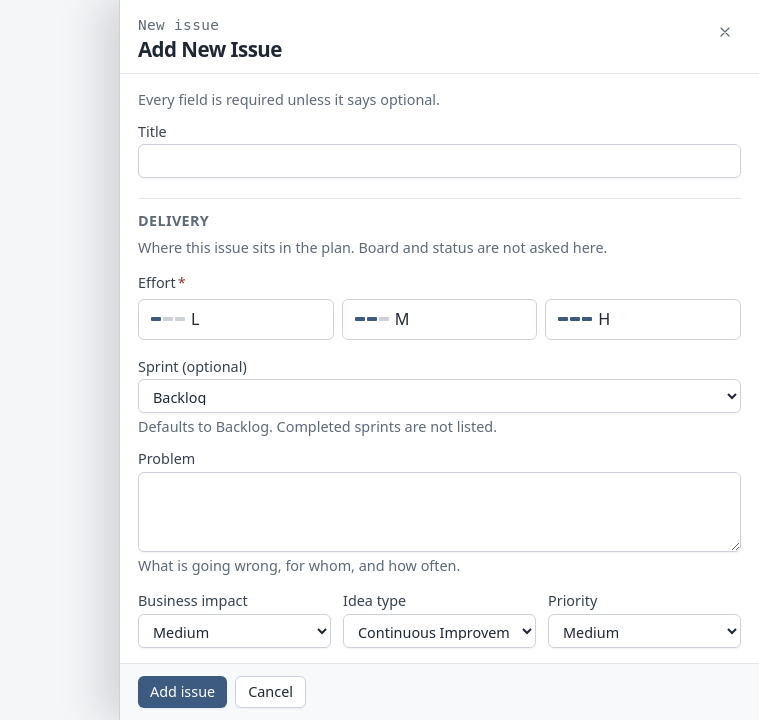
Test: BacklogAdd after a save › names the sprint in the toast when the Issue was put in one
Type "Fix the dock door" into the field labelled "Title" at (440, 161), box [138, 144, 741, 178]
Type "It jams." into the text box labelled "Problem" at (440, 512), box [138, 472, 741, 552]
(page scrolled)
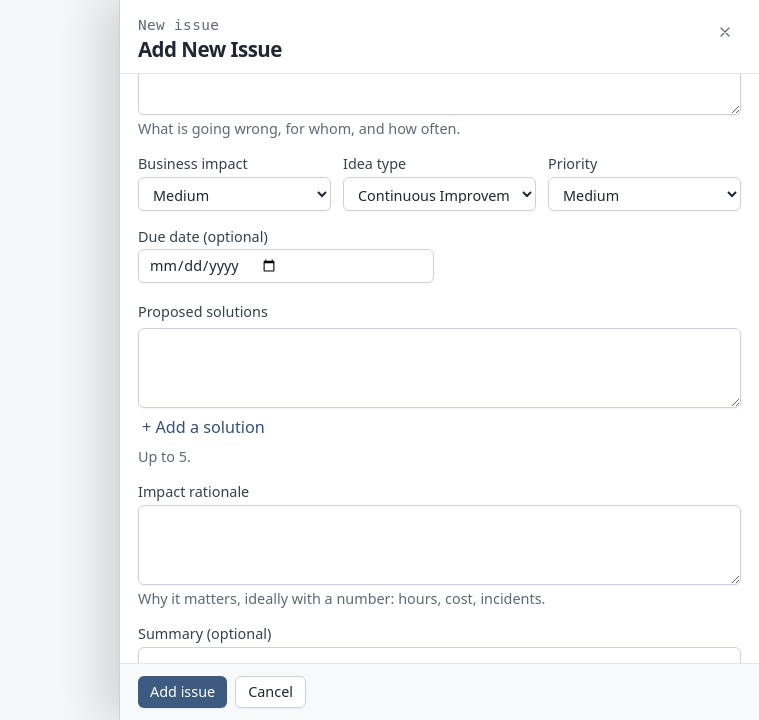
Type "New track" into the text box named "Solution 1" at (440, 368), box [138, 328, 741, 408]
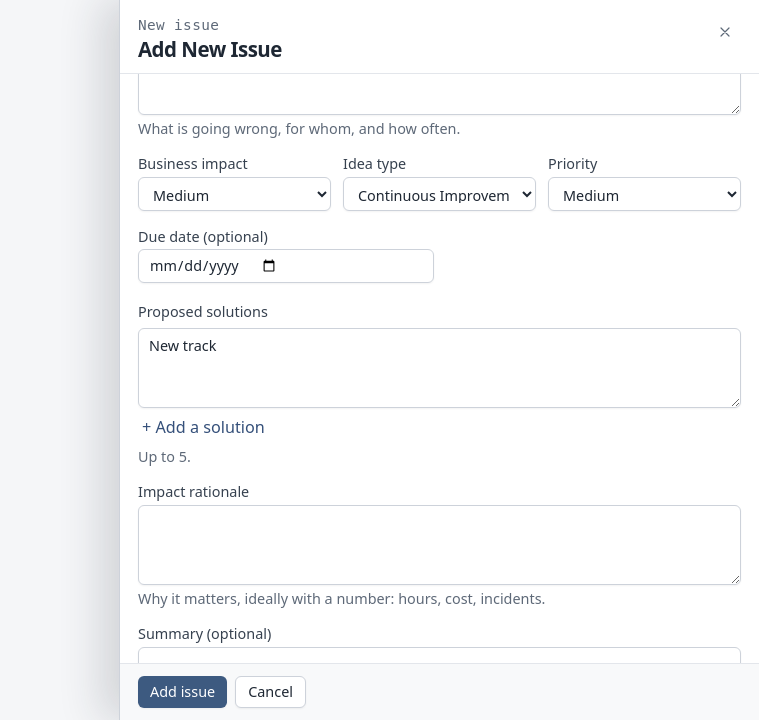
Type "Hours." into the text box labelled "Impact rationale" at (440, 545), box [138, 505, 741, 585]
(page scrolled)
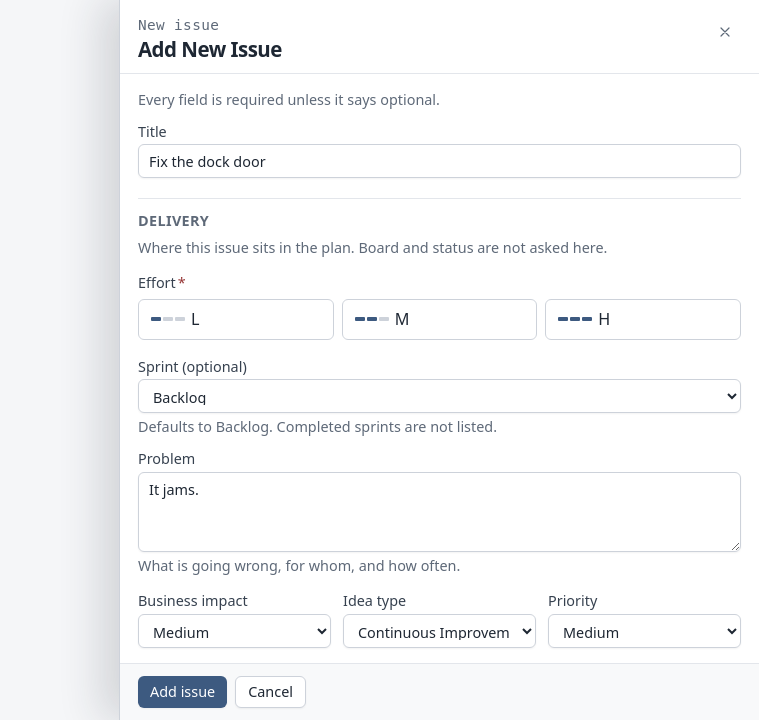
Click the radio button named "Low effort" at (236, 319), box [138, 299, 334, 340]
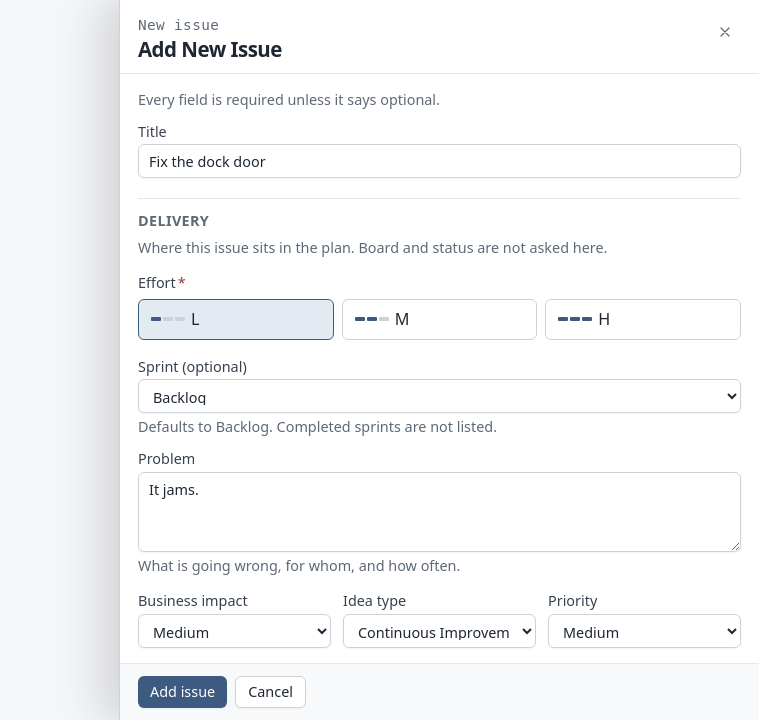
Select "Sprint 15 (planned)" in the dropdown labelled "Sprint (optional)" at (440, 396), box [138, 379, 741, 413]
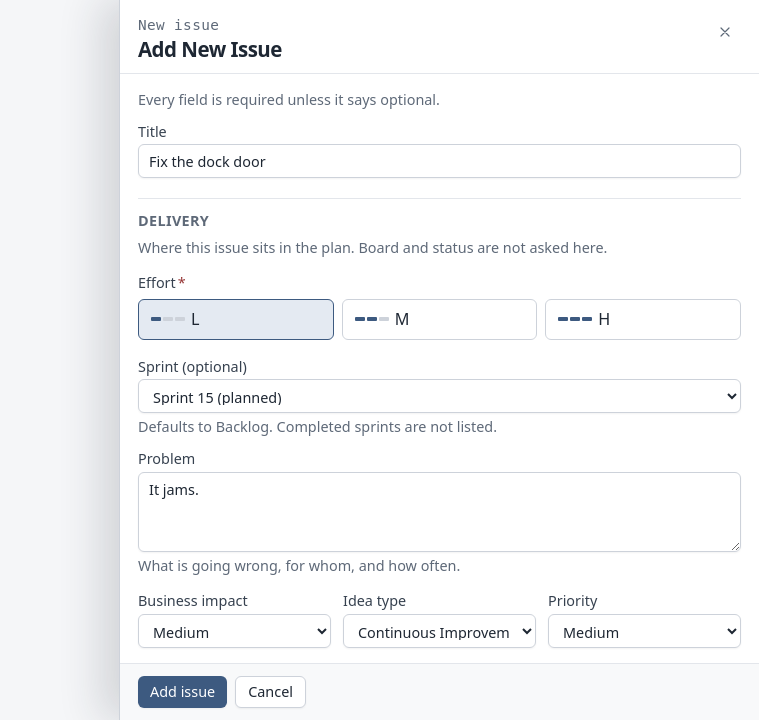
Click the button "Add issue" at (183, 692), box [138, 676, 227, 708]
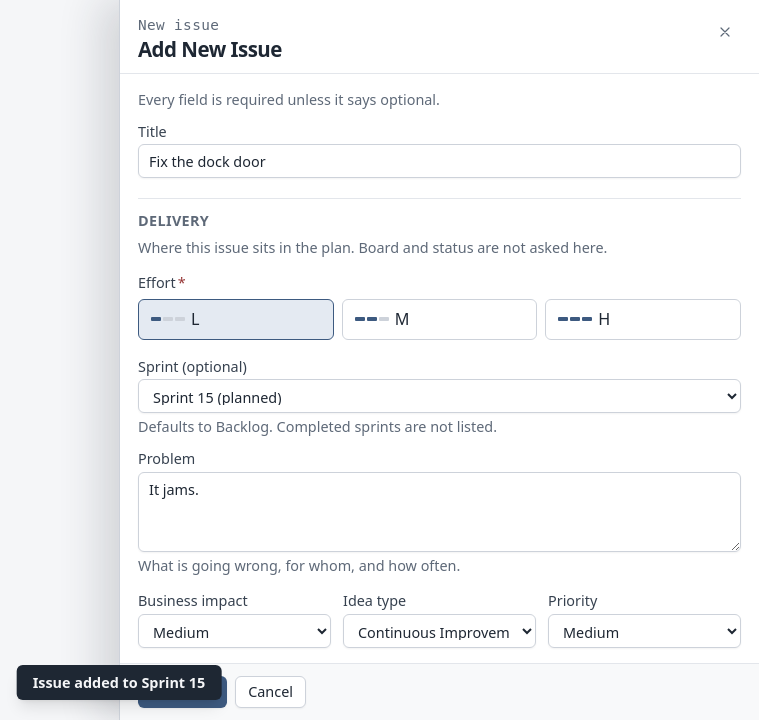
Expected: the text "Issue added to Sprint 15" is shown, [17, 665, 221, 700]
